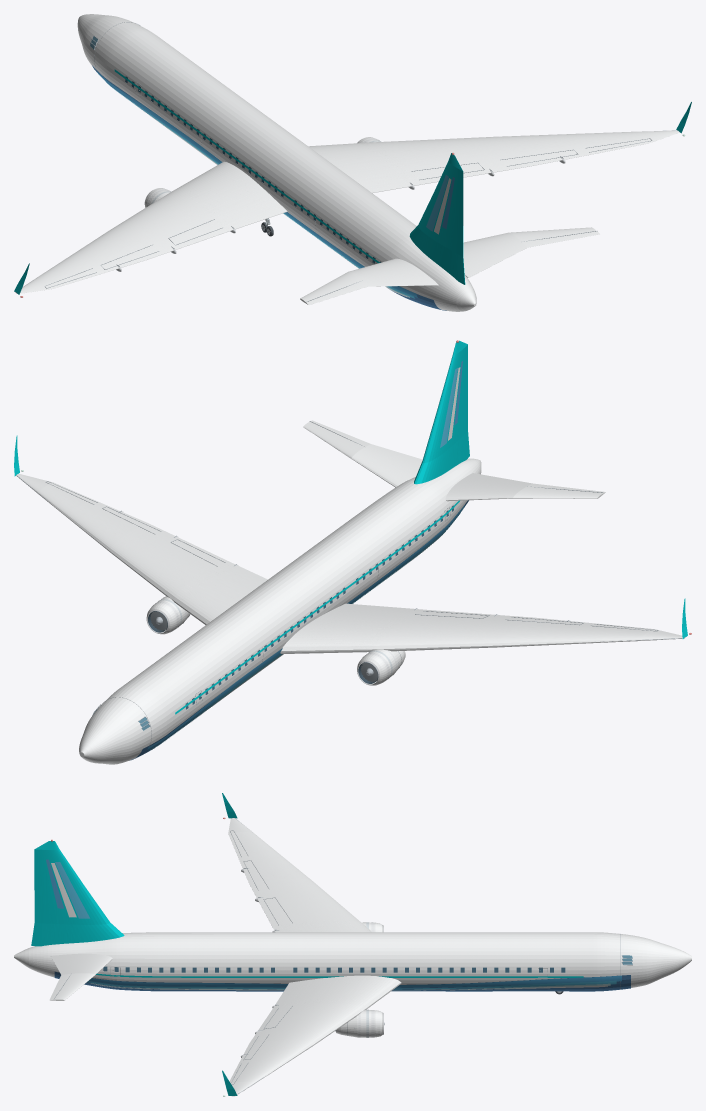
3 views of the same model, one above another, from view 1: azimuth 30°, elevation 25°; view 2: azimuth 150°, elevation 25°; view 3: azimuth 270°, elevation 25° (orthographic). The views are drawn at different scales.
Parts seen in each view (by area): view 1: surface_white, surface_teal, surface_waveblue, surface_seam, surface_skywave, surface_glass, surface_belly; view 2: surface_white, surface_teal, surface_waveblue, surface_seam, surface_skywave; view 3: surface_white, surface_teal, surface_waveblue, surface_belly, surface_skywave, surface_glass, surface_paintwhite, surface_pinstripe, surface_seam.
Part boxes in pixels (bbox=[...]): surface_white: bbox=[15, 14, 679, 311]; surface_teal: bbox=[14, 69, 691, 294]; surface_waveblue: bbox=[96, 71, 454, 297]; surface_seam: bbox=[44, 22, 652, 302]; surface_skywave: bbox=[106, 82, 448, 298]; surface_glass: bbox=[125, 76, 381, 263]; surface_belly: bbox=[92, 65, 446, 310]; surface_white: bbox=[16, 420, 685, 764]; surface_teal: bbox=[14, 340, 687, 714]; surface_waveblue: bbox=[147, 361, 464, 749]; surface_seam: bbox=[45, 421, 658, 752]; surface_skywave: bbox=[149, 367, 460, 750]; surface_white: bbox=[14, 818, 691, 1096]; surface_teal: bbox=[31, 793, 583, 1095]; surface_waveblue: bbox=[46, 859, 621, 987]; surface_belly: bbox=[54, 971, 630, 991]; surface_skywave: bbox=[55, 862, 616, 989]; surface_glass: bbox=[103, 966, 565, 972]; surface_paintwhite: bbox=[51, 863, 607, 990]; surface_pinstripe: bbox=[90, 983, 610, 990]; surface_seam: bbox=[54, 830, 620, 1084].
Size of the model in its own units: 65.51 by 16.65 by 66.8.
Materials: 26 (26 with a texture image).
